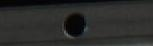holes: (61, 11, 88, 39)
